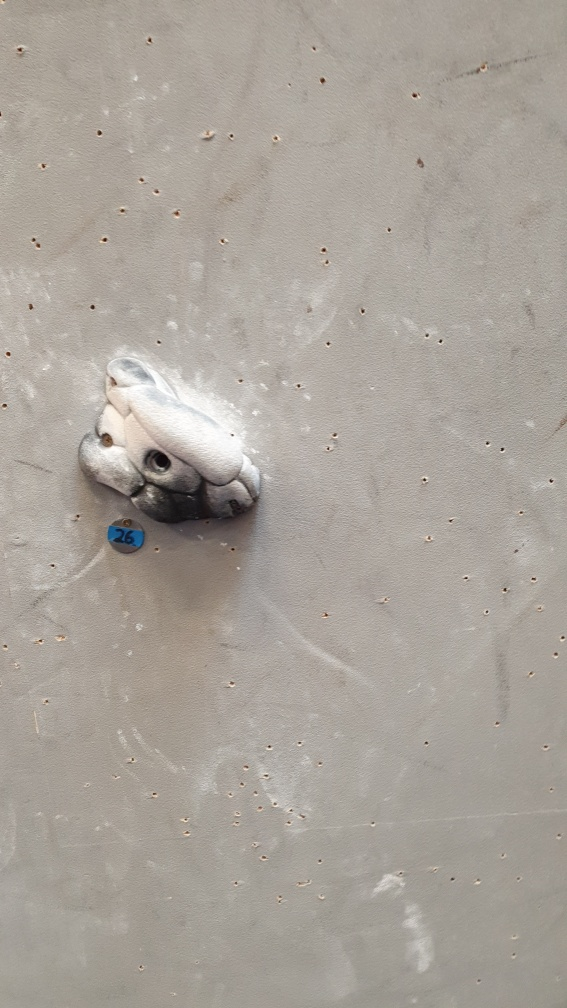Hand Start: (105, 515, 148, 557)
Jug: (76, 354, 265, 531)
